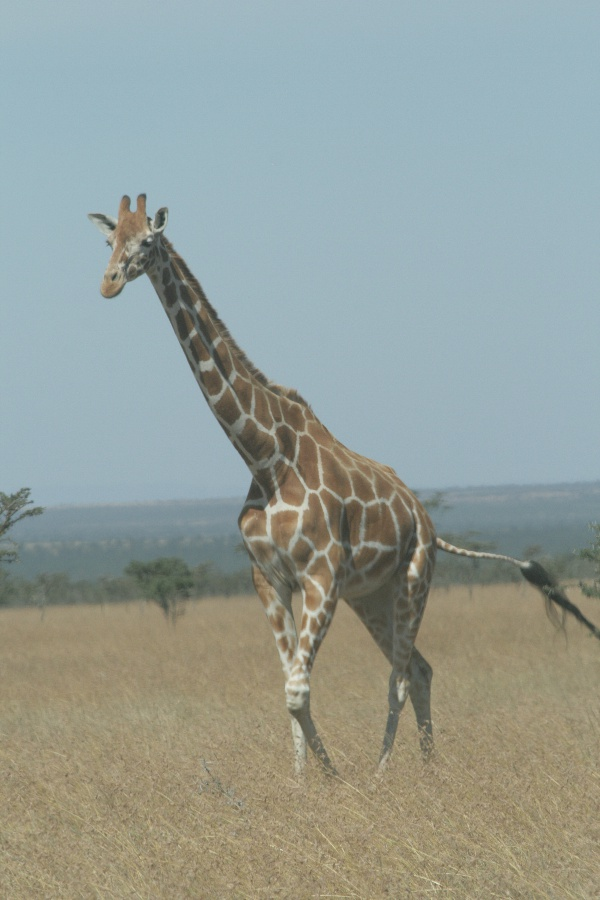giraffe: (86, 184, 474, 790)
